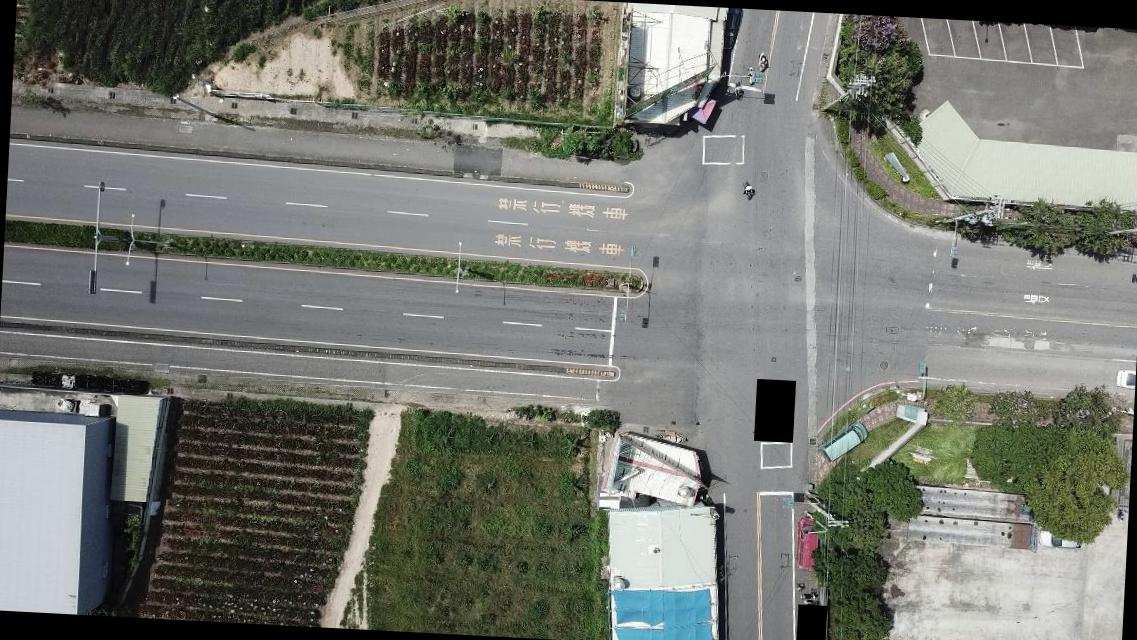vehicle: (819, 418, 873, 468), (793, 520, 822, 574), (1038, 527, 1086, 552), (720, 8, 744, 54), (1114, 368, 1134, 388)
